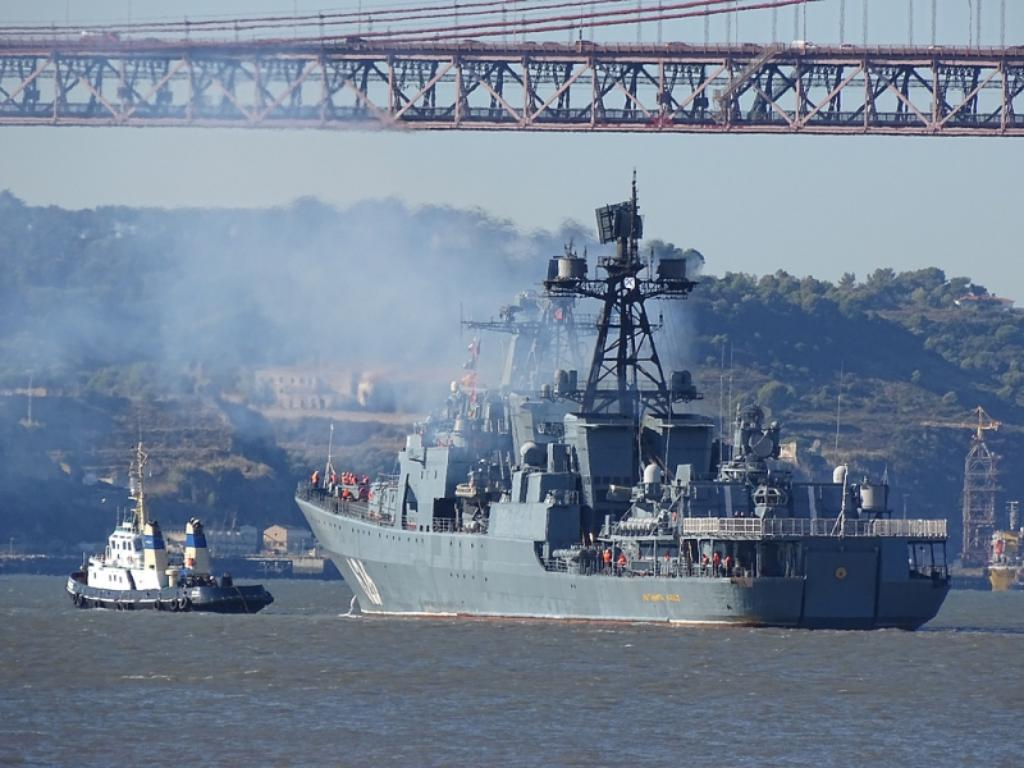Warship: (288, 163, 960, 631)
